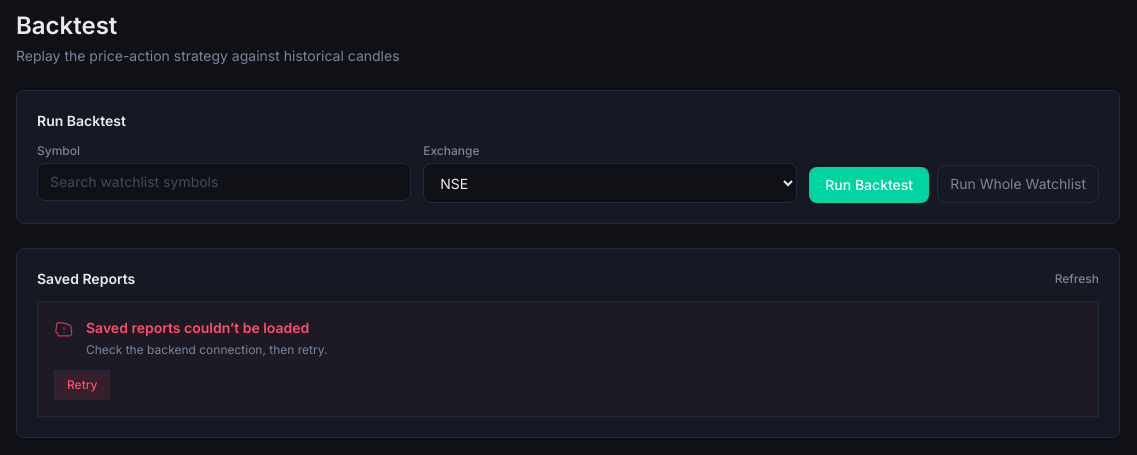
Test: BacktestView — saved report states › distinguishes an initial report-list failure from a confirmed empty list
Expected: the heading "Saved Reports" is shown, [37,269,135,289]
Expected: the element that starts with "Saved Reports" is shown, [16,248,1120,438]
Step 1. Click the button "Retry" → [82, 385], box [54,370,110,400]
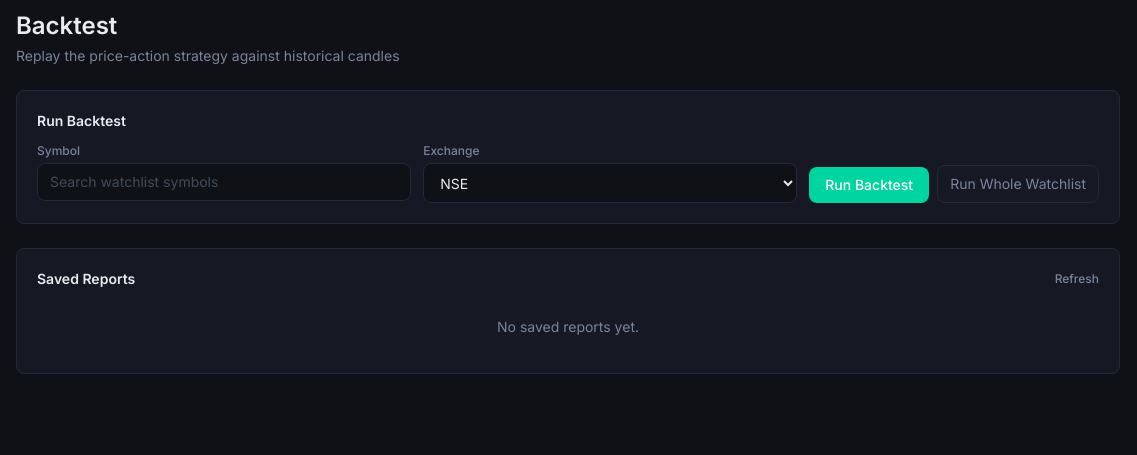
Expected: the heading "Saved Reports" is shown, [37,269,135,289]
Now the heading "Saved reports couldn’t be loaded" no longer shows "couldn.t be loaded"
